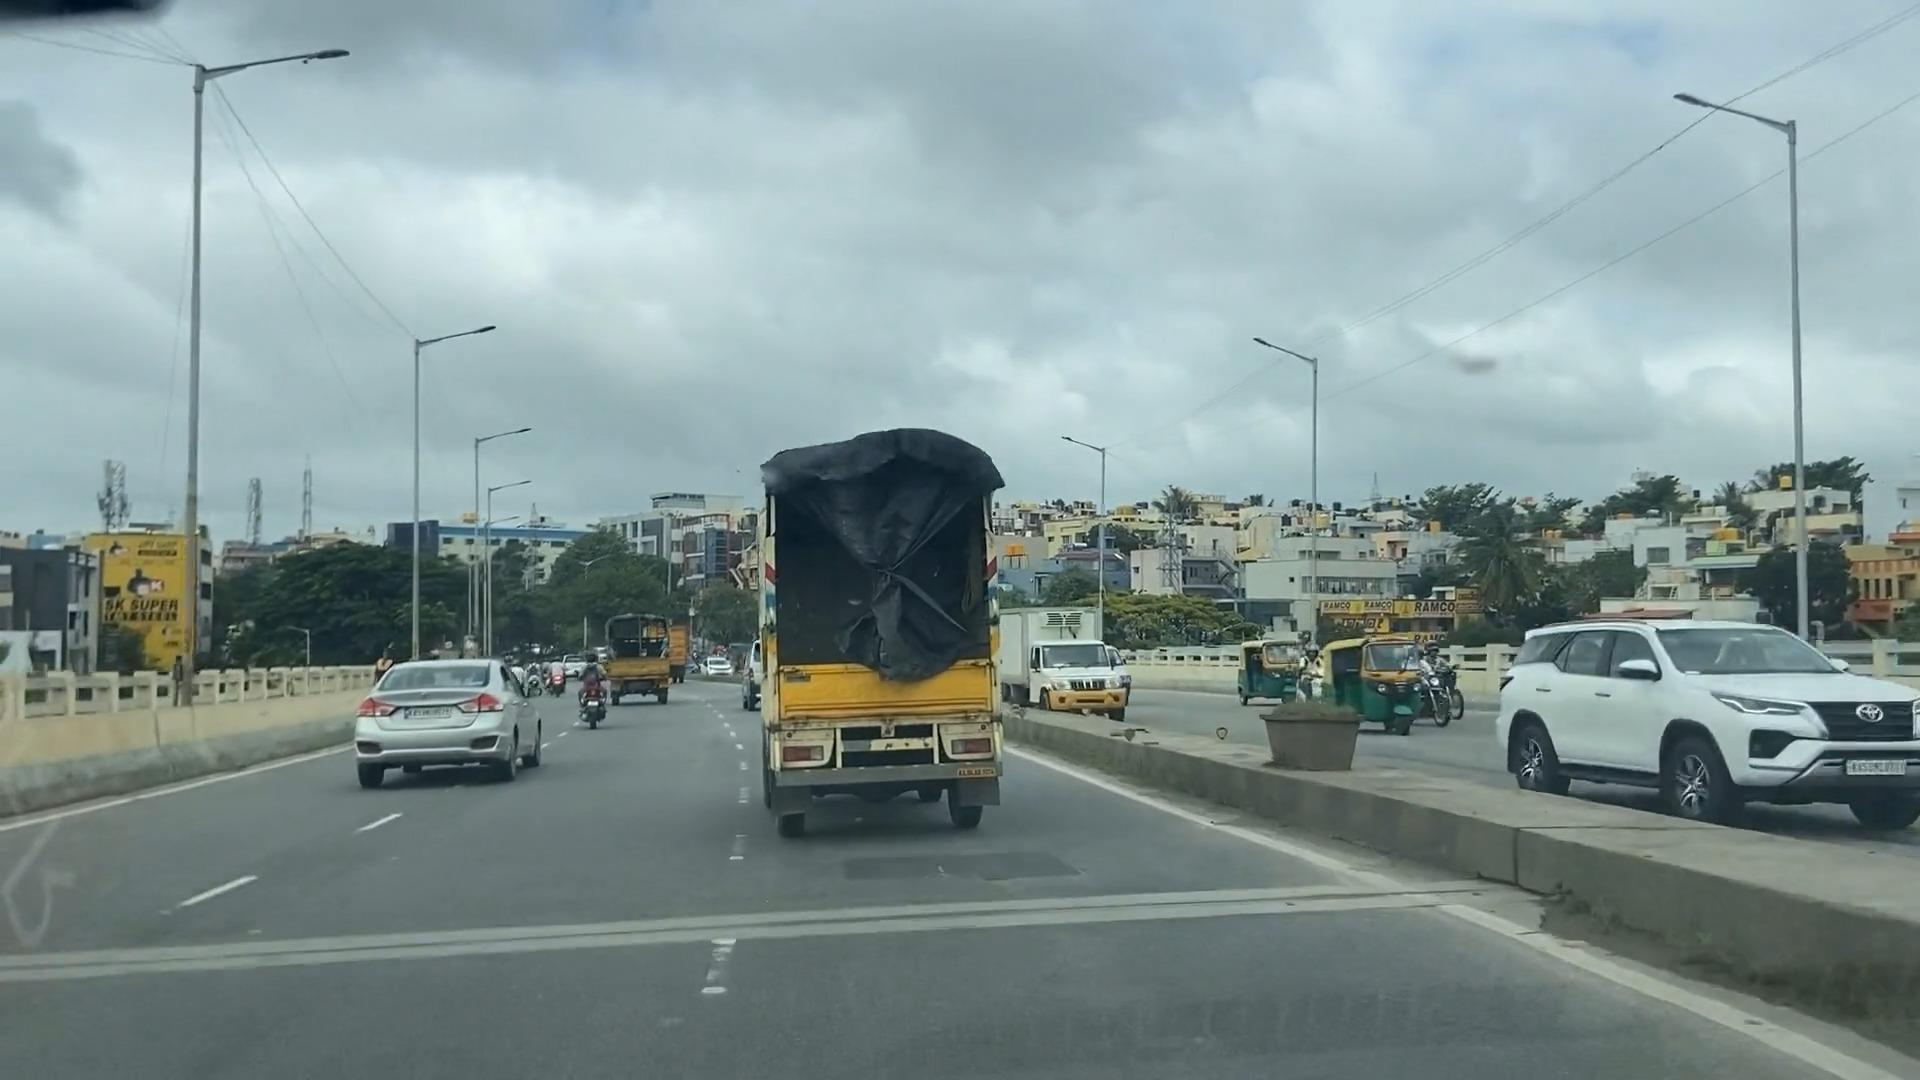HMV: (746, 422, 1017, 840)
